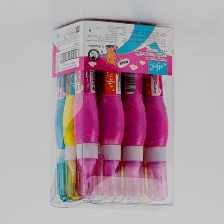correction_fluid: (96, 23, 128, 202), (120, 25, 150, 202), (142, 30, 171, 203), (75, 24, 102, 202), (61, 29, 82, 200), (54, 30, 71, 204)
plastic_box: (48, 16, 179, 213)
